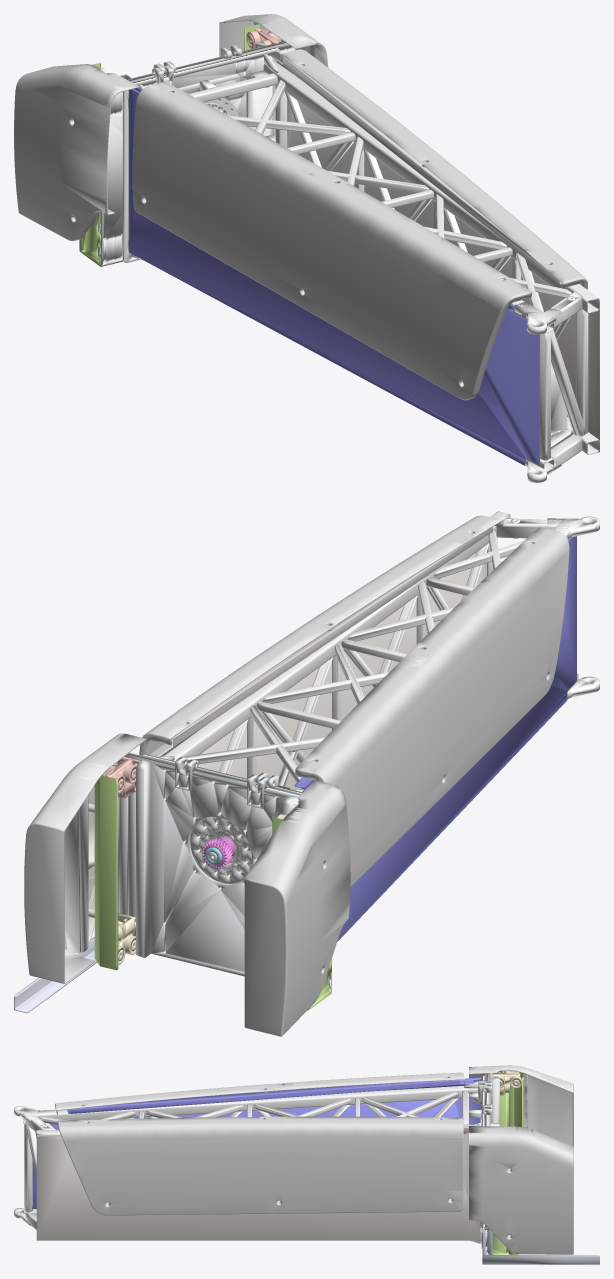
The model's file is TJA_05_Z_ARM1.glb.
3 renders of one model, top to bottom at view 1: azimuth 30°, elevation 25°; view 2: azimuth 150°, elevation 25°; view 3: azimuth 270°, elevation 25°, orthographic. The views are drawn at different scales.
Size of the model in its own units: 1.15 by 0.8642 by 3.49.
Materials: 1 (1 with a texture image).
